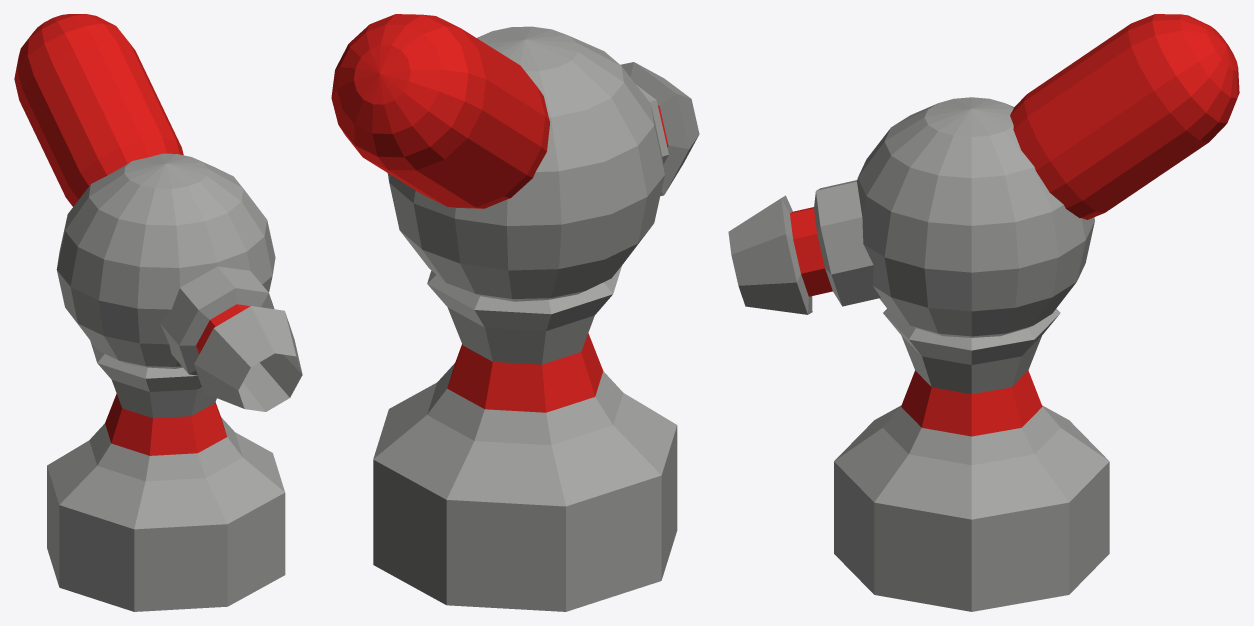
The model's file is Gel_Explosive_Fire.fbx.
3 views of the same model, side by side, from view 1: azimuth 30°, elevation 25°; view 2: azimuth 150°, elevation 25°; view 3: azimuth 270°, elevation 25° (orthographic). The views are drawn at different scales.
Visible parts, largest first — view 1: Circle; view 2: Circle; view 3: Circle.
Part boxes in pixels (x1=…): Circle: x1=14, y1=14, x2=302, y2=611; Circle: x1=331, y1=14, x2=699, y2=611; Circle: x1=728, y1=14, x2=1239, y2=611.
Bounding box in the file's own units: 310 × 662 × 575.
1 material, 1 textured.
